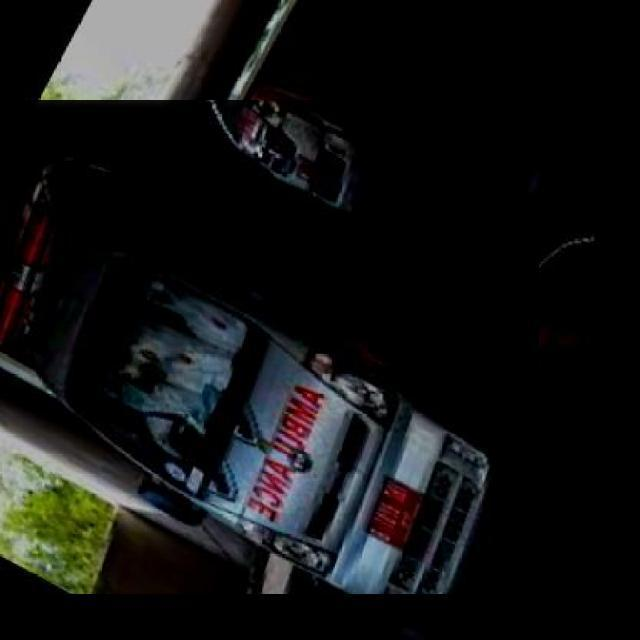emergency-vehicle: (0, 77, 517, 616)
